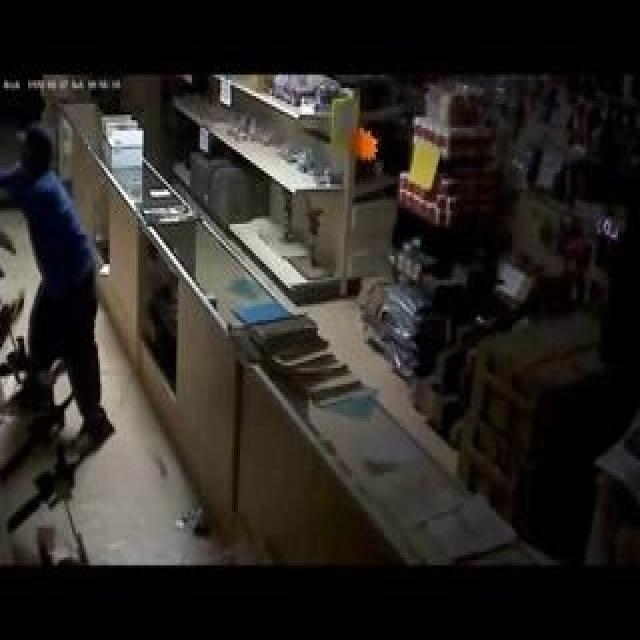thief: (0, 111, 79, 270)
